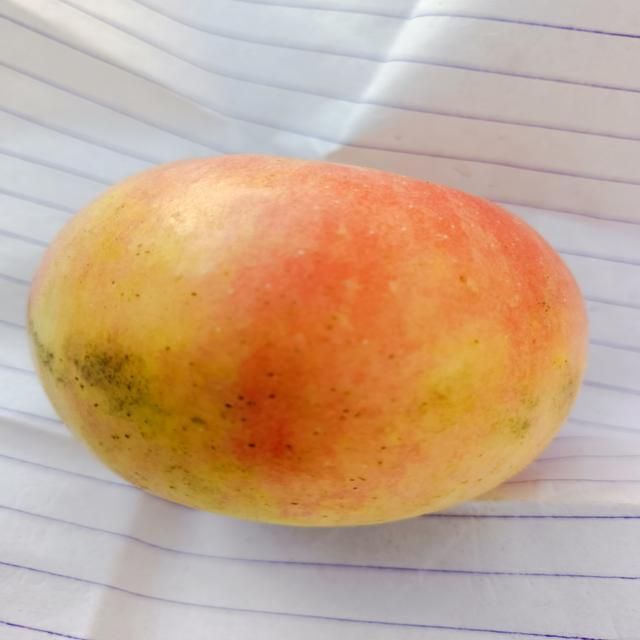Fresh Apple: (25, 148, 591, 530)
